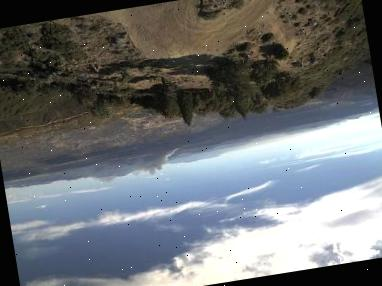smoke: (115, 148, 185, 182)
